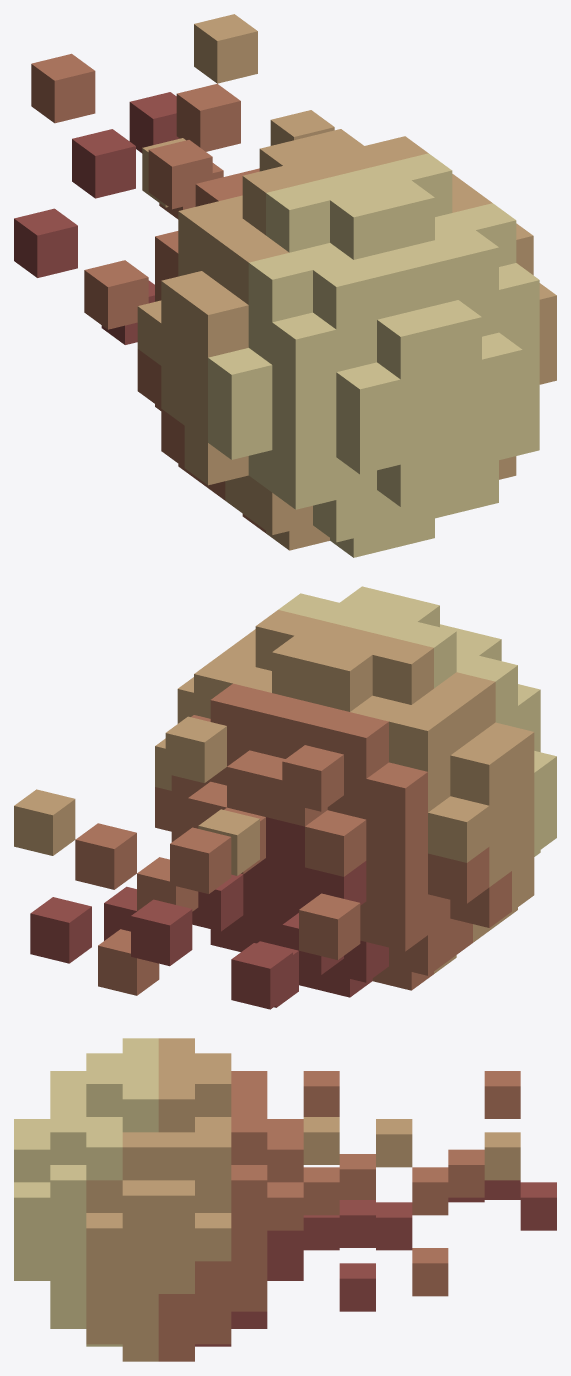
File: BolaFuego-1.obj
3 views of the same model, one above another, from view 1: azimuth 30°, elevation 25°; view 2: azimuth 150°, elevation 25°; view 3: azimuth 270°, elevation 25° (orthographic). The views are drawn at different scales.
Size of the model in its own units: 0.8 by 0.8 by 1.5.
Materials: 1 (1 with a texture image).
